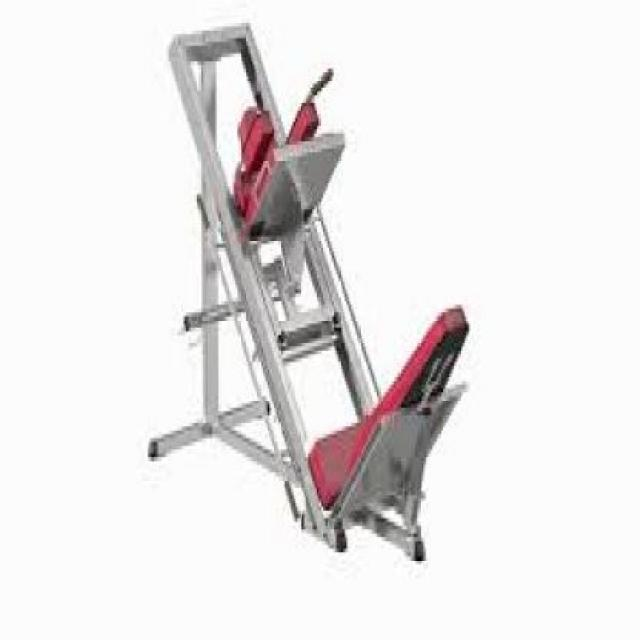leg press: (137, 14, 517, 575)
